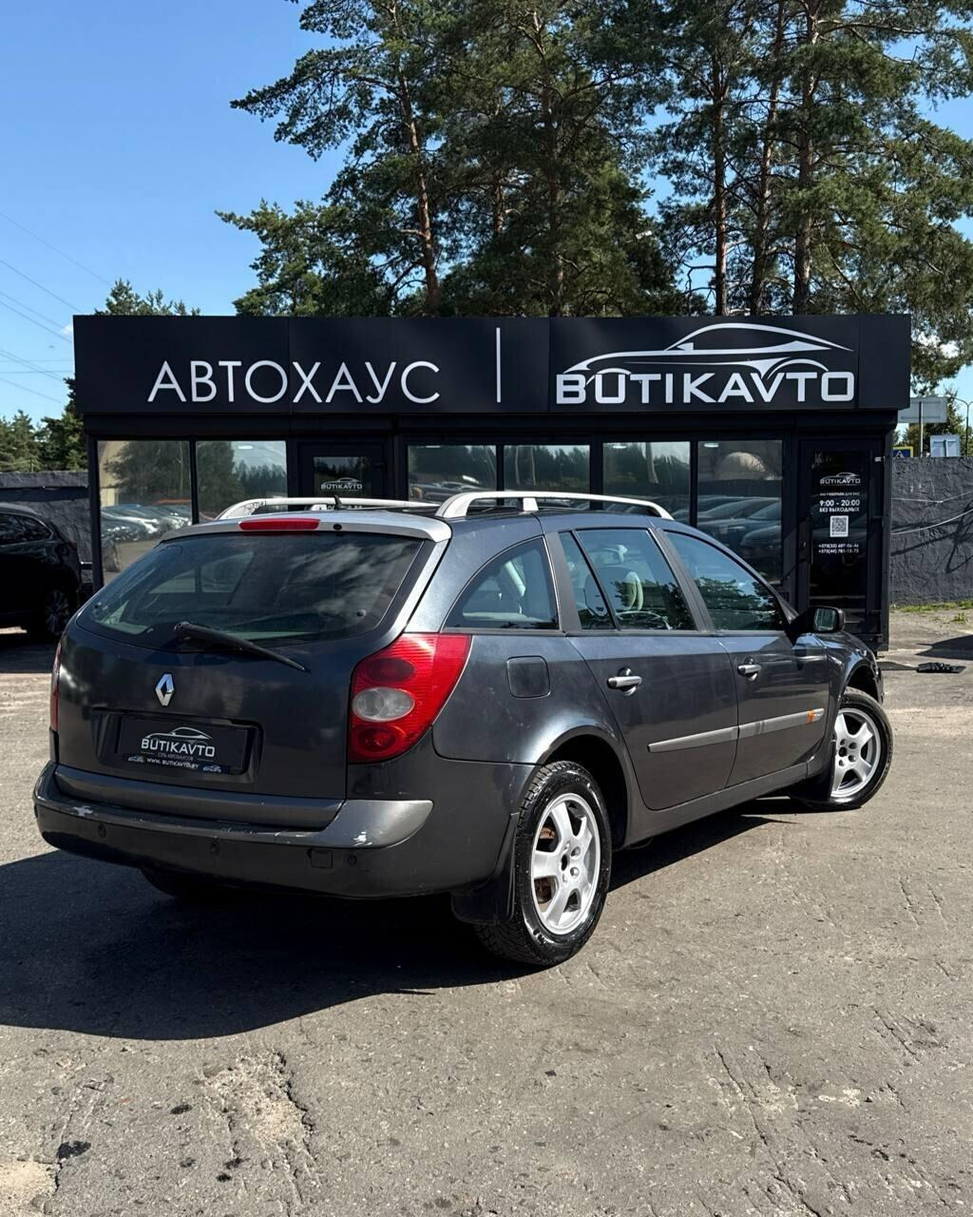Laguna_2001-2005: (36, 495, 888, 963)
